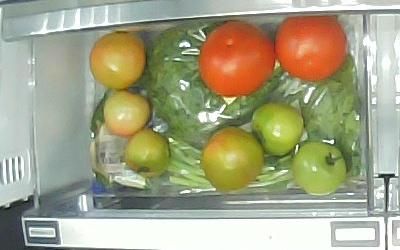tomato: (199, 21, 274, 96), (274, 15, 348, 81), (202, 126, 264, 193), (89, 32, 148, 89), (293, 142, 346, 195), (252, 102, 304, 156), (124, 129, 171, 178), (104, 91, 151, 137)
